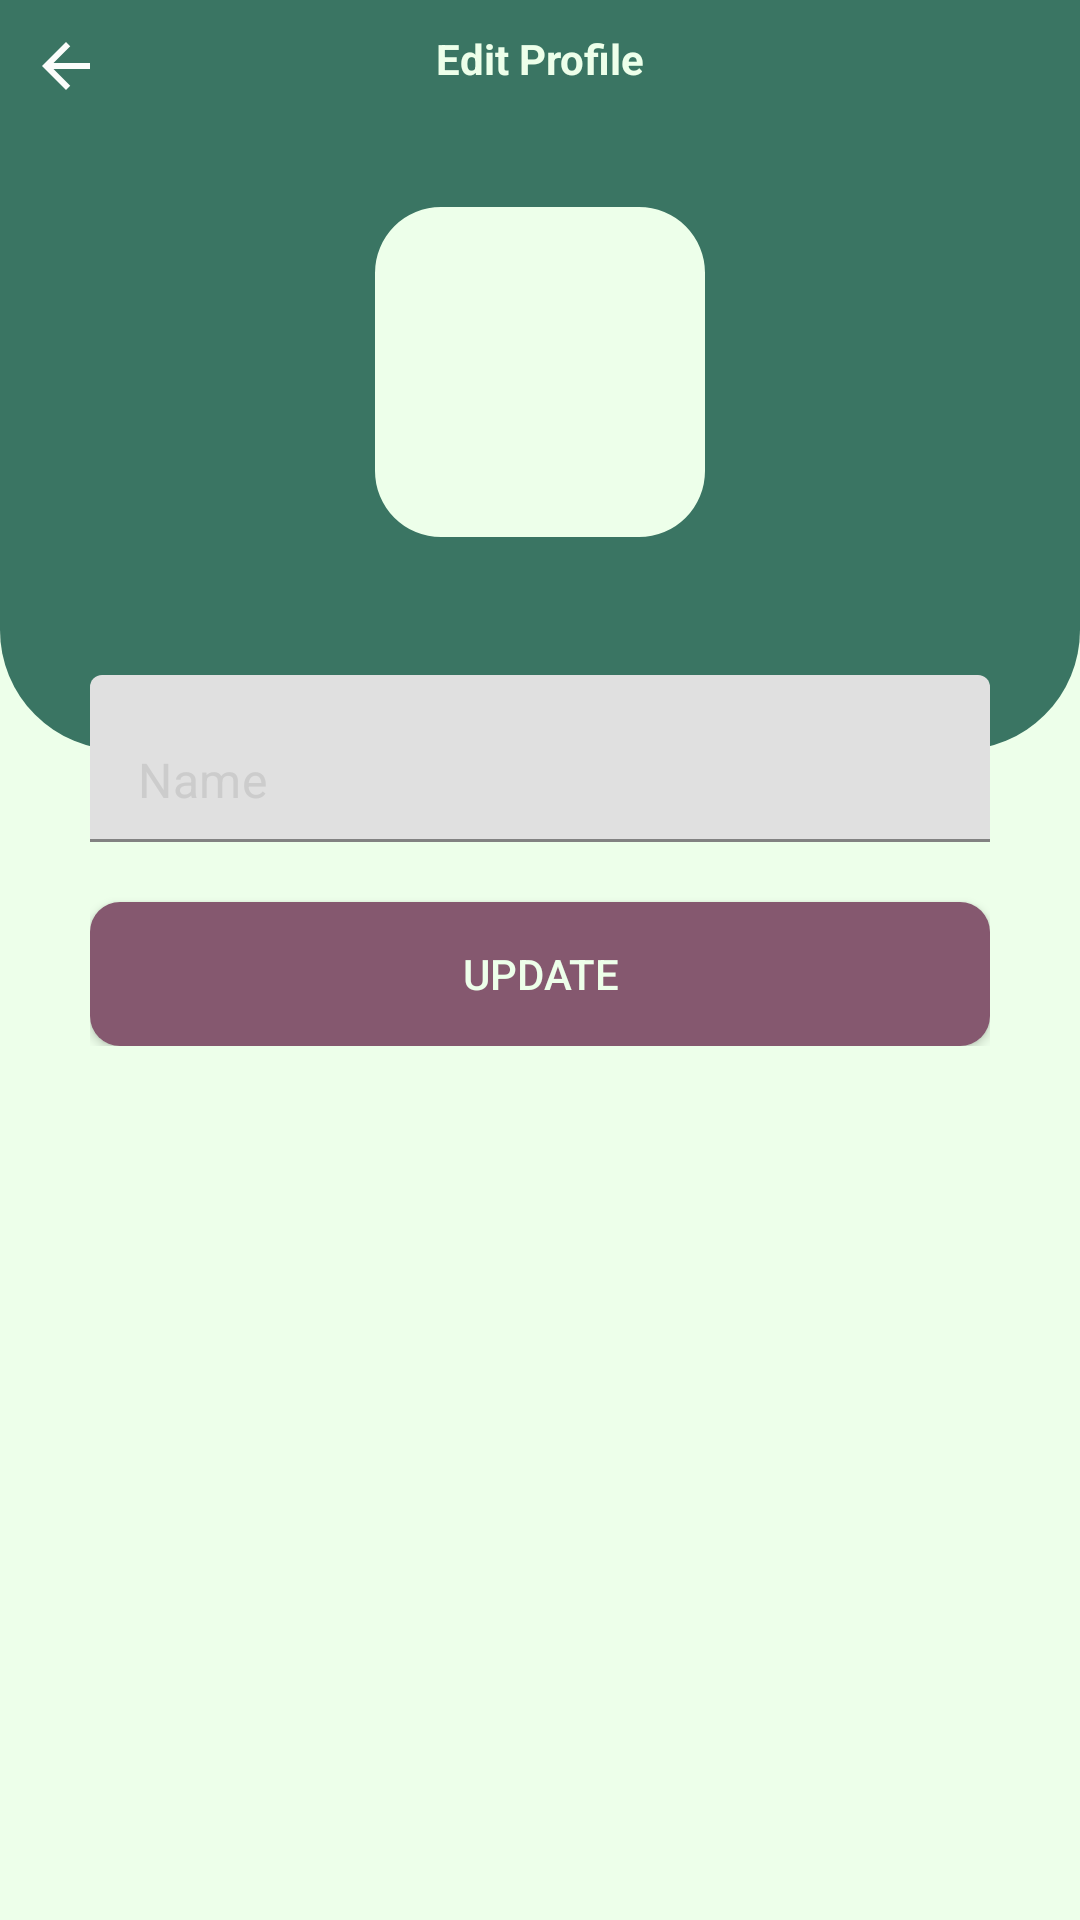

Locate icon controls on the screen. Image size 1080px×1920px, boxes as (x1, y1, x2, y2).
arrowback: (42, 42, 90, 90)
